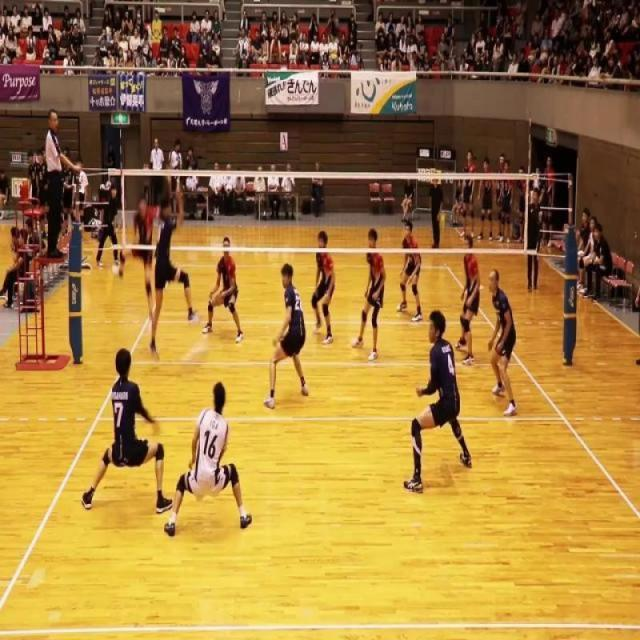volleyball: (180, 344, 209, 366)
